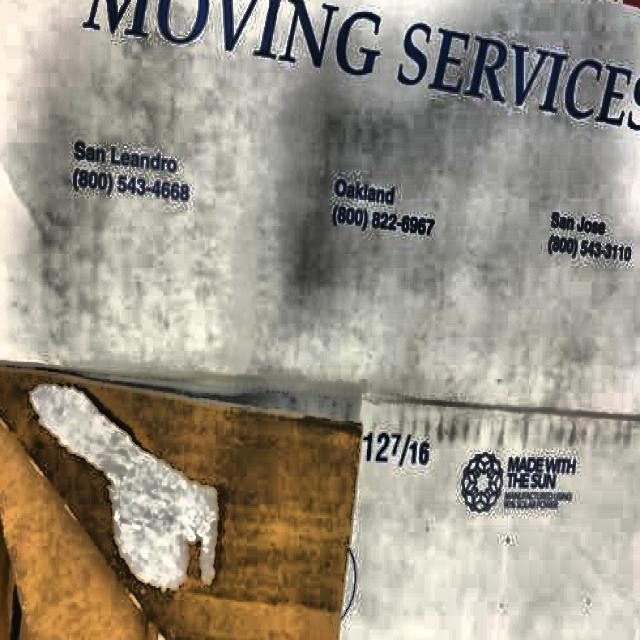cardboard: (0, 358, 363, 640)
